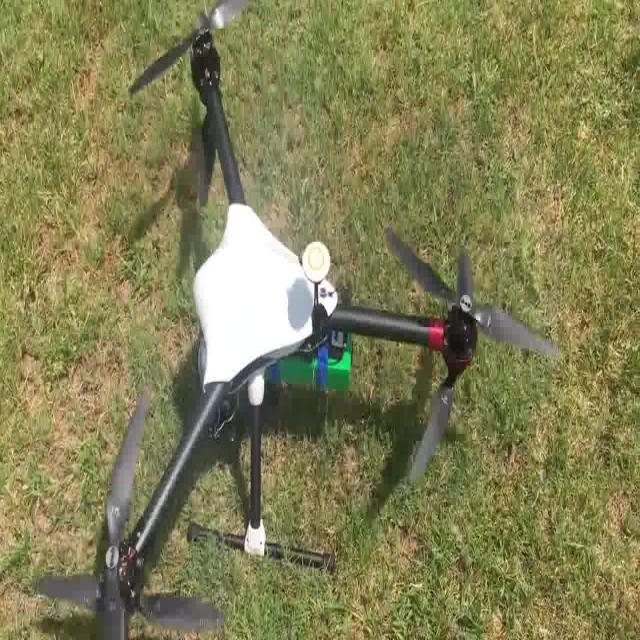drones: (14, 0, 576, 640)
